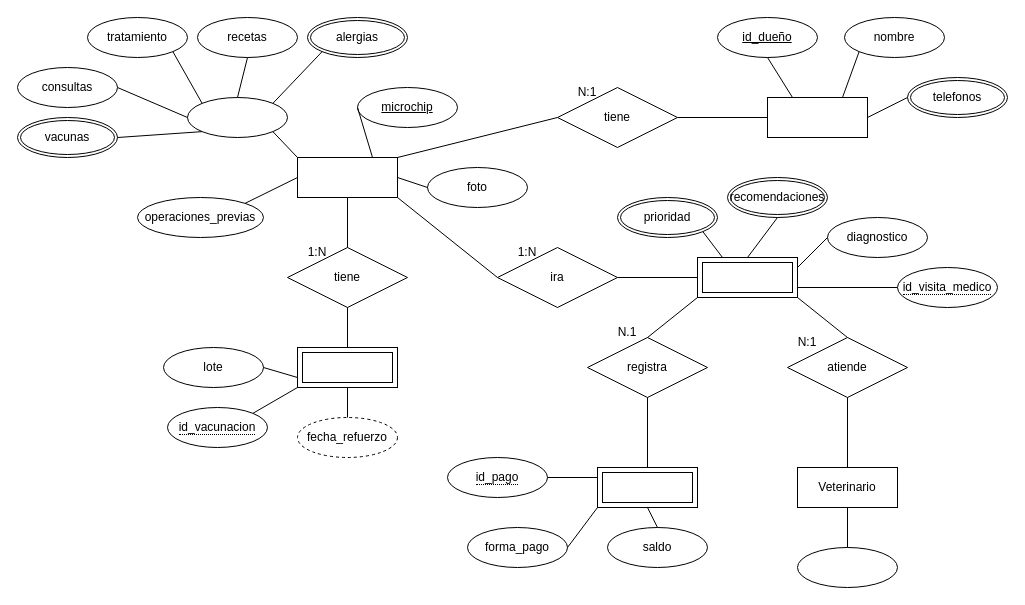
Some shapes in this 1025 by 605 pixel diagram are drawn without their labels. The shapes that lost their labels are listed below. From the top down, each one's centre as x and y in pixels, then its label:
point (237, 117): historial_medico
point (817, 117): Dueño
point (347, 177): Mascota
point (747, 277): Visita_Medica
point (347, 367): Vacunacion
point (647, 487): Pago
point (847, 567): Num_colegiatura
